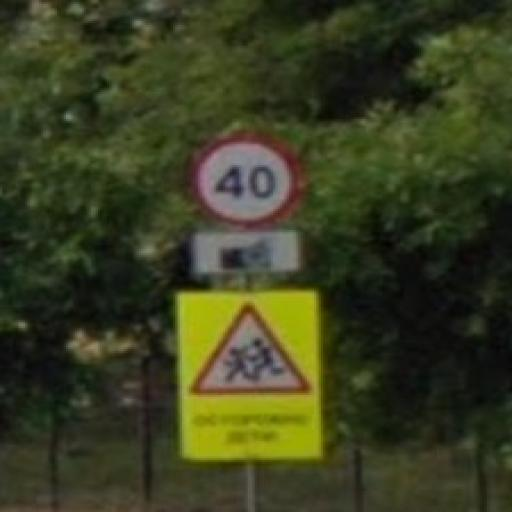traffic_sign: (188, 304, 313, 398), (193, 134, 302, 228)
